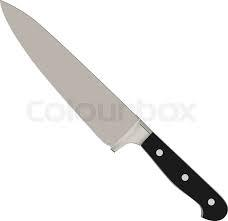Knife: (0, 0, 227, 220)
